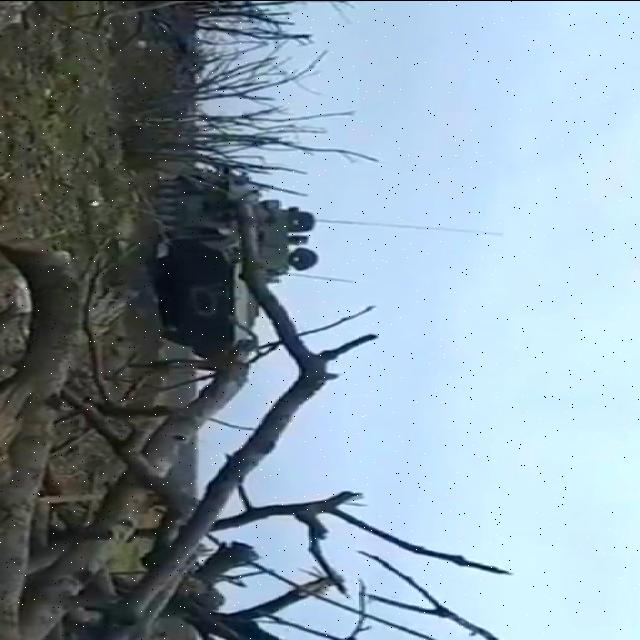APC-IFV: (153, 168, 324, 362)
